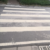zebra: (1, 6, 50, 32)
